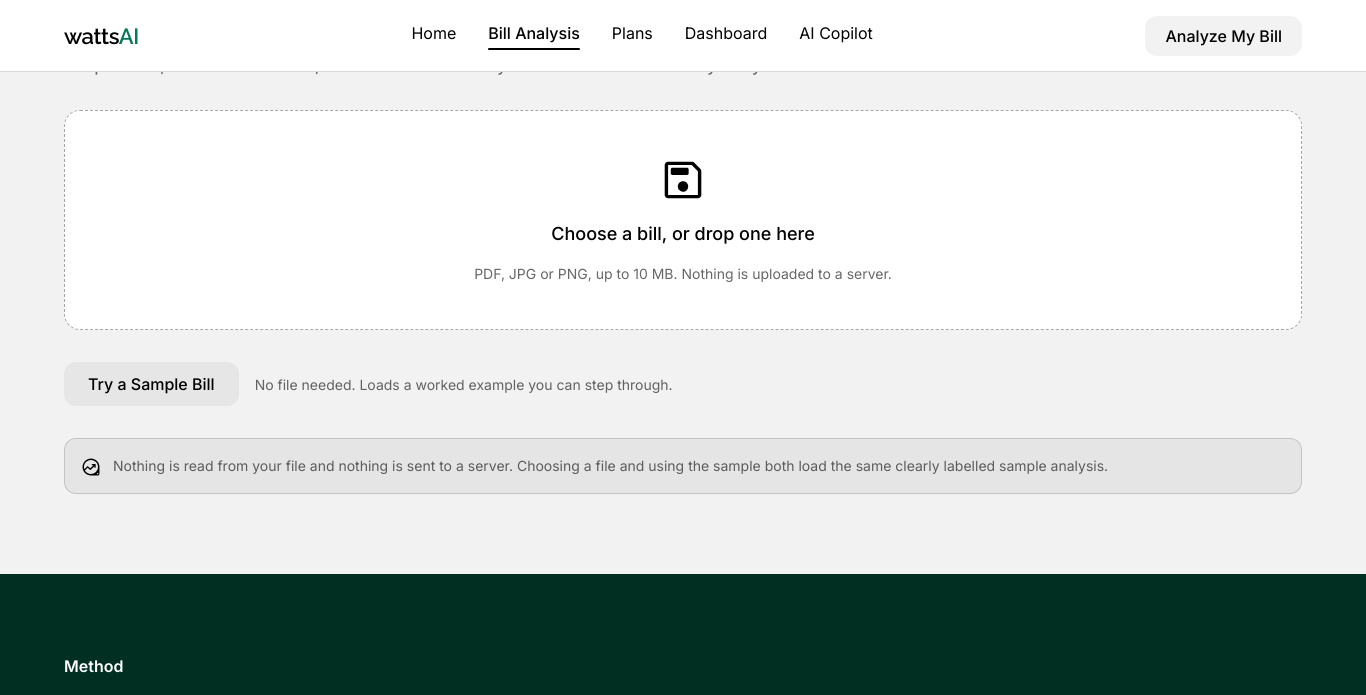
it: home profile step › blocks submission until every required answer is given
(page scrolled)
Click the button "Try a Sample Bill".
click(151, 384)  # box [64,362,239,406]
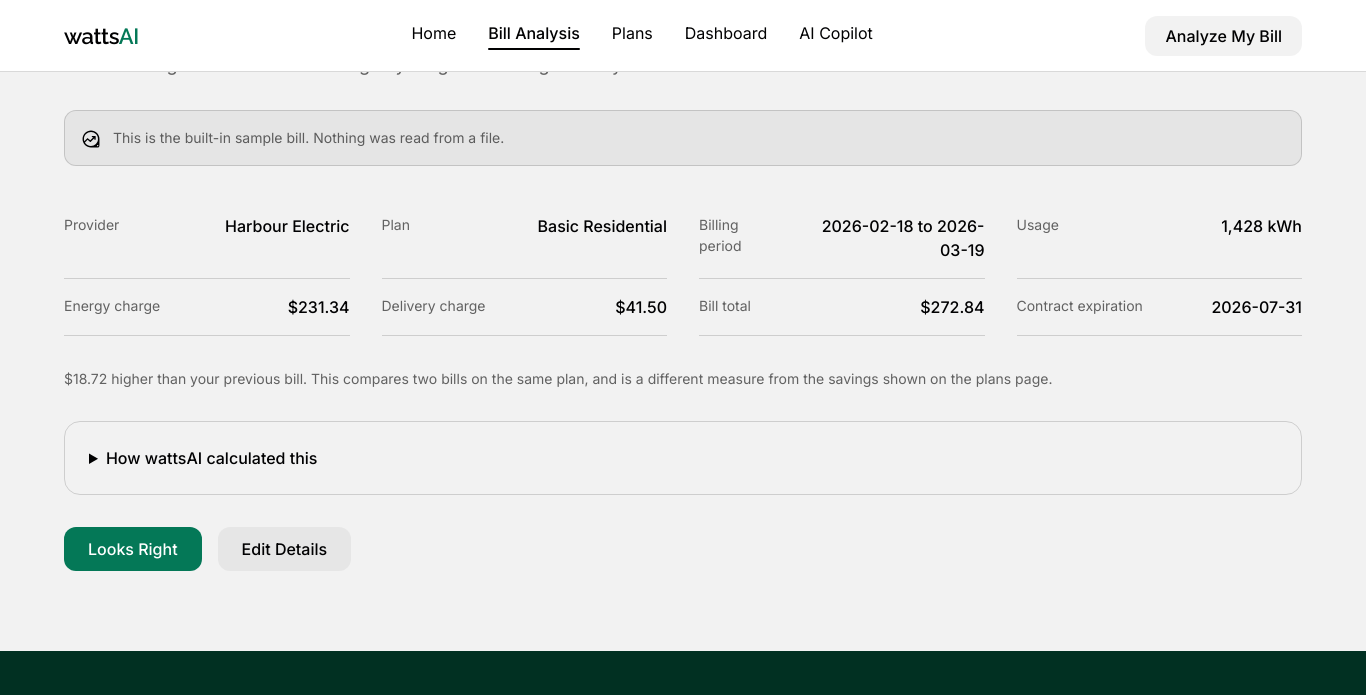
Click the button "Looks Right".
click(133, 549)  # box [64,527,202,571]
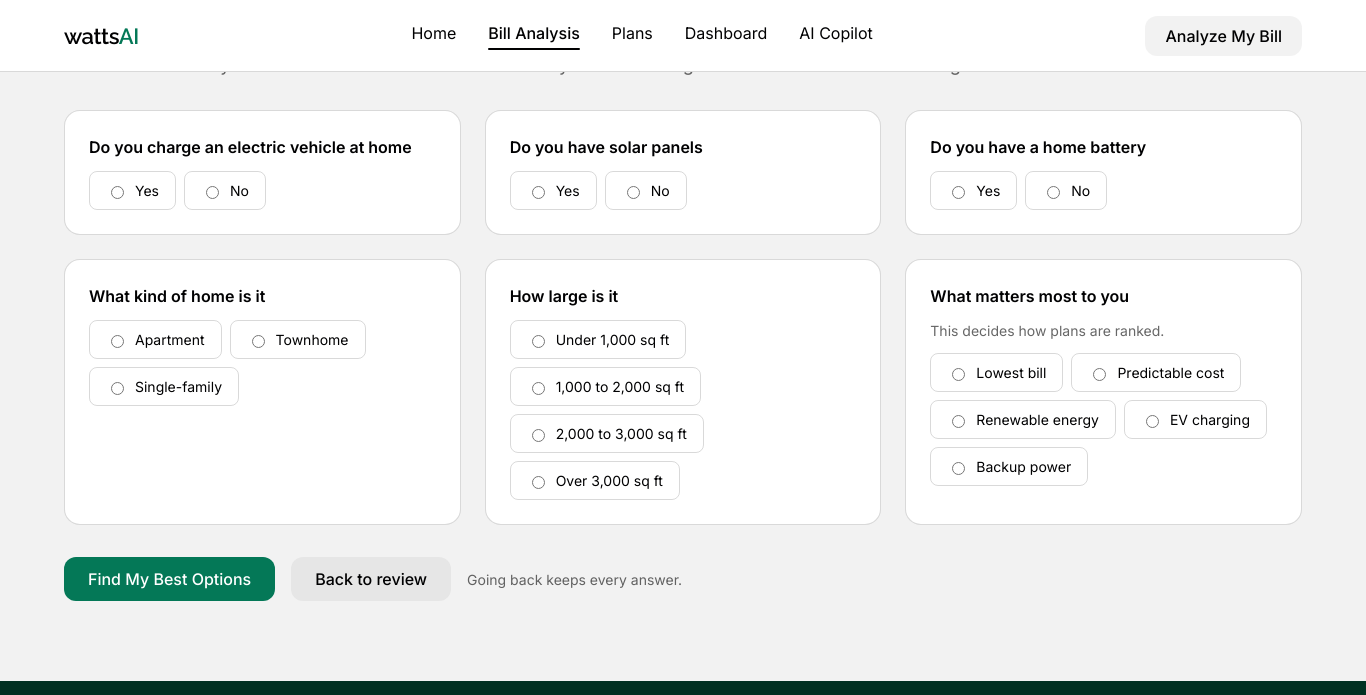
Click the button "Find My Best Options".
click(170, 579)  # box [64,557,275,601]
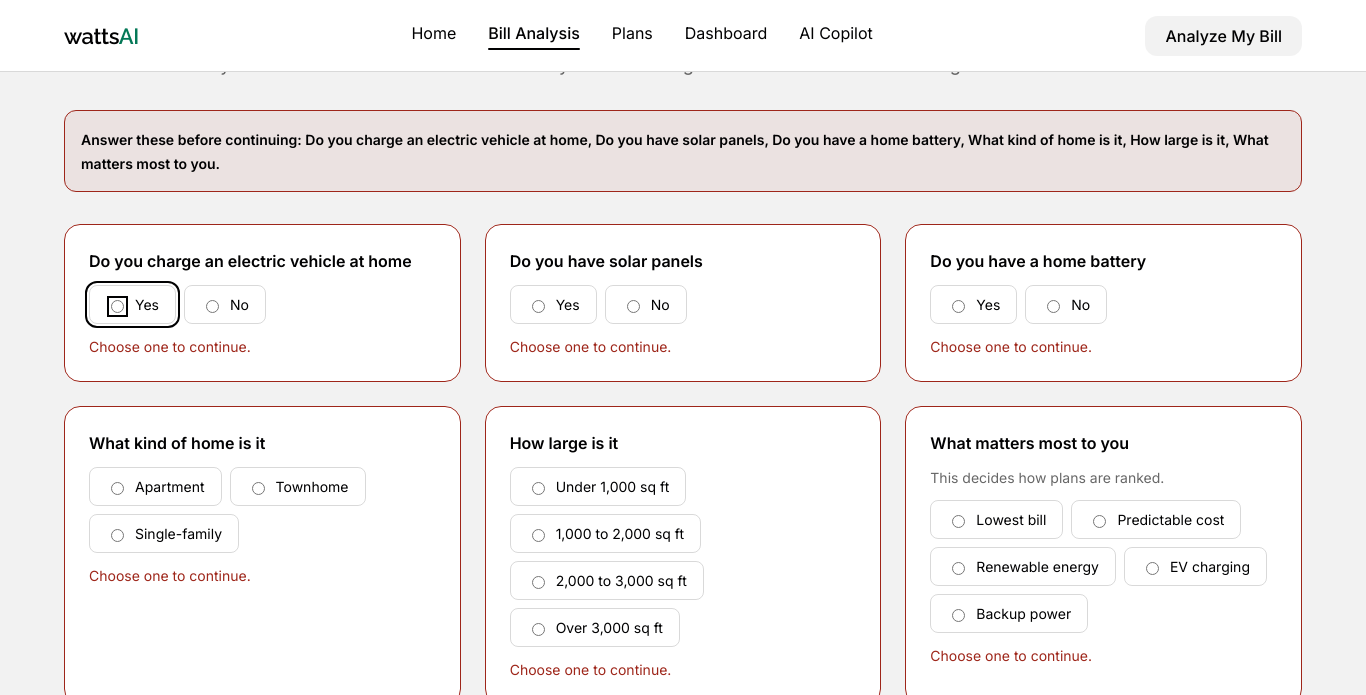
Expected: the message shows "Answer these before continuing", [81,131,305,148]
